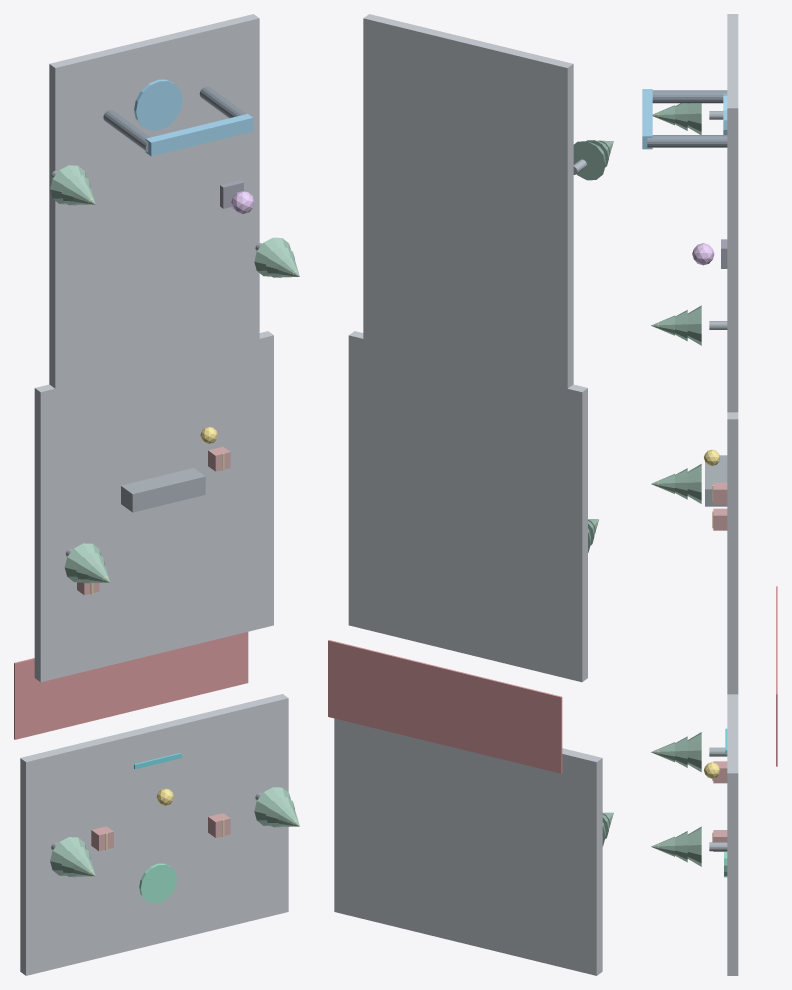
The model's file is level_01_christmas.glb.
3 views of the same model, side by side, from view 1: azimuth 30°, elevation 25°; view 2: azimuth 150°, elevation 25°; view 3: azimuth 270°, elevation 25° (orthographic). The views are drawn at different scales.
Visible parts, largest first — view 1: FIRST_DASH_LANDING_0002, CHRISTMAS_EXIT_CORRIDOR_0003, START_CHRISTMAS_ROOM_0001, VOID_DEBUG_NONCOLLIDING_0004, PRESENT_BARRIER_LOW_0039, EXIT_ARCH_HEADER_0048, LEVEL_COMPLETION_TRIGGER_PLACEHOLDER_0045, PLAYER_SPAWN_0044, EXIT_ARCH_L_0046, EXIT_ARCH_R_0047, CHRISTMAS_TREE_BLOCKOUT_0017, CHRISTMAS_TREE_BLOCKOUT_0022 (+1 smaller); view 2: FIRST_DASH_LANDING_0002, CHRISTMAS_EXIT_CORRIDOR_0003, START_CHRISTMAS_ROOM_0001, VOID_DEBUG_NONCOLLIDING_0004, CHRISTMAS_TREE_BLOCKOUT_0027; view 3: CHRISTMAS_EXIT_CORRIDOR_0003, FIRST_DASH_LANDING_0002, START_CHRISTMAS_ROOM_0001, EXIT_ARCH_R_0047, EXIT_ARCH_L_0046, PRESENT_BARRIER_LOW_0039, EXIT_ARCH_HEADER_0048, CHRISTMAS_TREE_BLOCKOUT_0022, CHRISTMAS_TREE_BLOCKOUT_0007, CHRISTMAS_TREE_BLOCKOUT_0012, CHRISTMAS_TREE_BLOCKOUT_0017, CHRISTMAS_TREE_BLOCKOUT_0027 (+8 smaller).
Boxes of the visible parts, x1,y1,x2,y2 form: FIRST_DASH_LANDING_0002: (34, 331, 273, 682); CHRISTMAS_EXIT_CORRIDOR_0003: (49, 14, 259, 388); START_CHRISTMAS_ROOM_0001: (20, 694, 288, 975); VOID_DEBUG_NONCOLLIDING_0004: (14, 632, 248, 739); PRESENT_BARRIER_LOW_0039: (121, 468, 205, 512); EXIT_ARCH_HEADER_0048: (145, 114, 253, 156); LEVEL_COMPLETION_TRIGGER_PLACEHOLDER_0045: (134, 79, 182, 130); PLAYER_SPAWN_0044: (139, 863, 177, 903); EXIT_ARCH_L_0046: (103, 110, 149, 152); EXIT_ARCH_R_0047: (199, 86, 245, 118); CHRISTMAS_TREE_BLOCKOUT_0017: (64, 543, 101, 582); CHRISTMAS_TREE_BLOCKOUT_0022: (254, 237, 290, 276); FIRST_DASH_LANDING_0002: (348, 331, 587, 682); CHRISTMAS_EXIT_CORRIDOR_0003: (363, 14, 573, 388); START_CHRISTMAS_ROOM_0001: (334, 718, 602, 975); VOID_DEBUG_NONCOLLIDING_0004: (328, 640, 562, 773); CHRISTMAS_TREE_BLOCKOUT_0027: (573, 141, 605, 180); CHRISTMAS_EXIT_CORRIDOR_0003: (727, 14, 738, 412); FIRST_DASH_LANDING_0002: (727, 412, 738, 694); START_CHRISTMAS_ROOM_0001: (727, 694, 738, 975); EXIT_ARCH_R_0047: (647, 135, 727, 147); EXIT_ARCH_L_0046: (652, 90, 727, 103); PRESENT_BARRIER_LOW_0039: (705, 455, 727, 506); EXIT_ARCH_HEADER_0048: (642, 89, 652, 149); CHRISTMAS_TREE_BLOCKOUT_0022: (687, 305, 701, 345); CHRISTMAS_TREE_BLOCKOUT_0007: (687, 732, 701, 772); CHRISTMAS_TREE_BLOCKOUT_0012: (687, 826, 701, 866); CHRISTMAS_TREE_BLOCKOUT_0017: (687, 464, 701, 503); CHRISTMAS_TREE_BLOCKOUT_0027: (687, 103, 701, 134).
Bounding box in the file's own units: 18 × 59 × 8.48.
